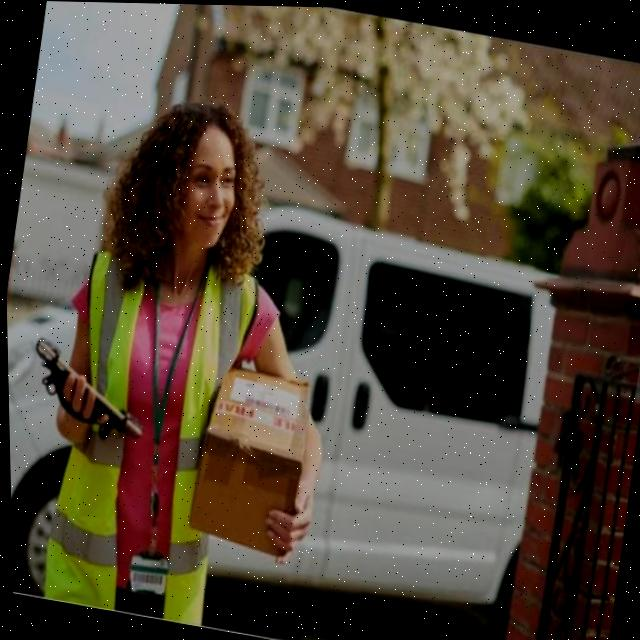id_card: (96, 278, 218, 598)
